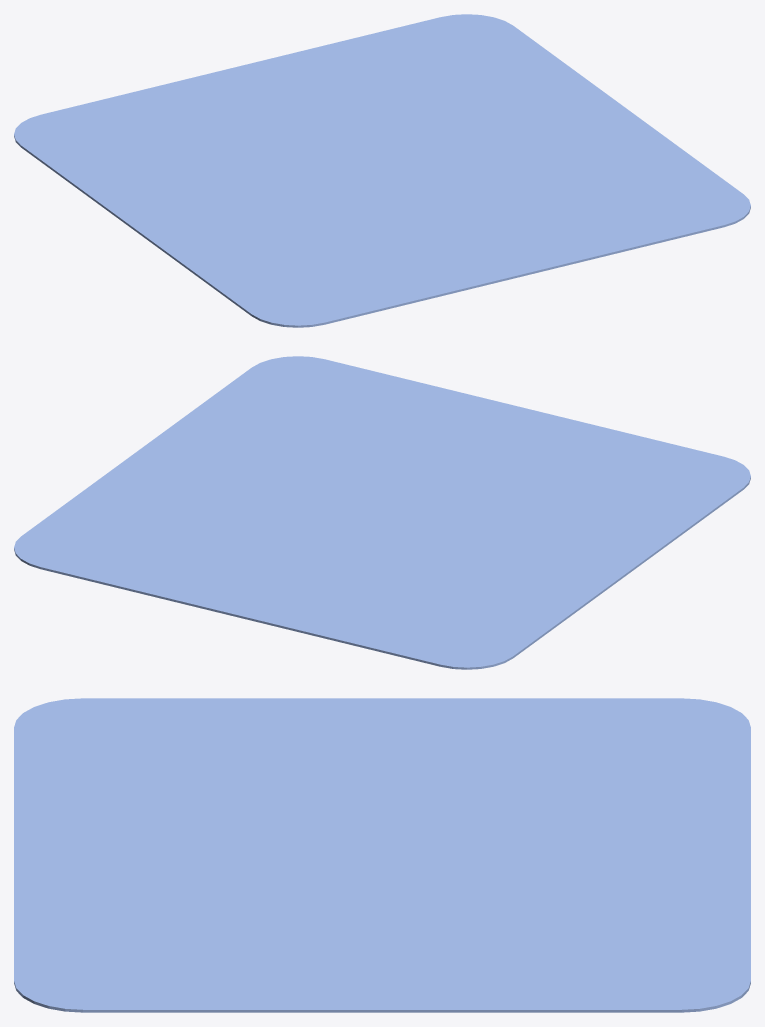
The picture shows the model from 3 angles, top to bottom: view 1: azimuth 30°, elevation 25°; view 2: azimuth 150°, elevation 25°; view 3: azimuth 270°, elevation 25°; orthographic projection. The views are drawn at different scales.
Visible parts, largest first — view 1: COM-02 Floor Surface; view 2: COM-02 Floor Surface; view 3: COM-02 Floor Surface.
Part boxes in pixels (<box>): COM-02 Floor Surface: <box>14,14,750,327</box>; COM-02 Floor Surface: <box>14,356,750,669</box>; COM-02 Floor Surface: <box>14,698,750,1012</box>.
Bounding box in the file's own units: 192 × 0.8 × 192.
